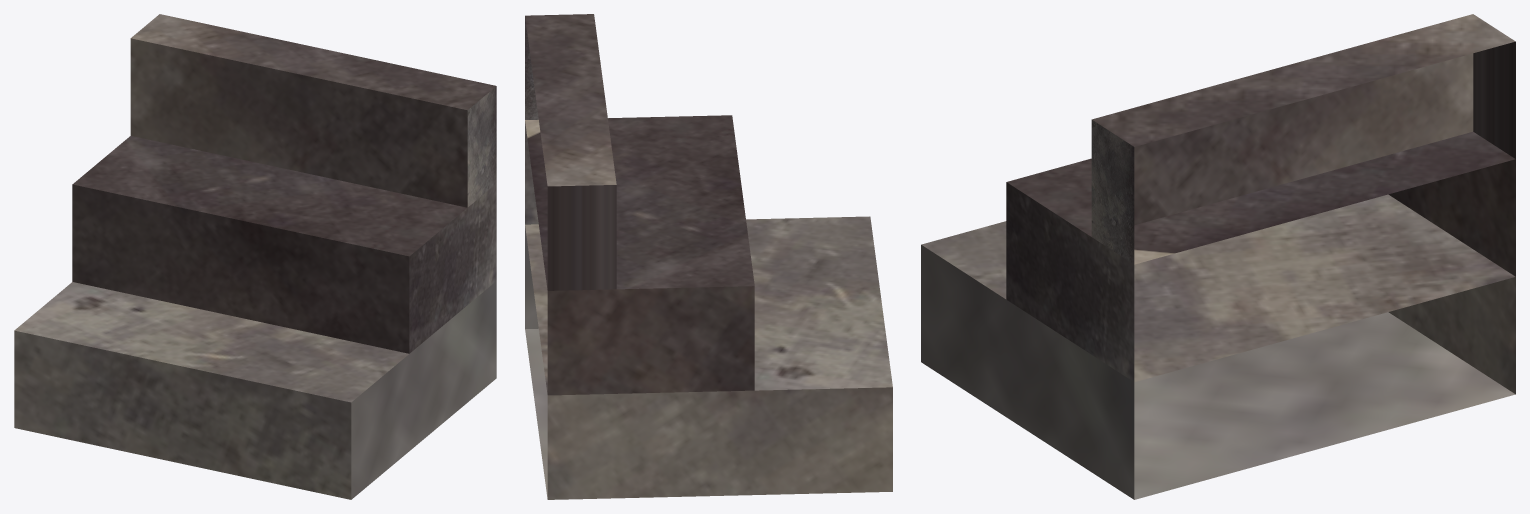
The model's file is stairs.FBX.
The picture shows the model from 3 angles, left to right: view 1: azimuth 30°, elevation 25°; view 2: azimuth 150°, elevation 25°; view 3: azimuth 270°, elevation 25°; orthographic projection. The views are drawn at different scales.
Visible parts, largest first — view 1: portaat006; view 2: portaat006; view 3: portaat006.
Part boxes in pixels (x1,y1,x2,y2): portaat006: (14,14,496,499); portaat006: (525,14,892,499); portaat006: (921,14,1515,499).
Bounding box in the file's own units: 58.18 × 39.37 × 60.12.
1 material, 1 textured.
